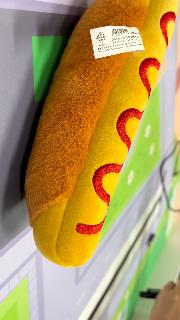hotdog: (24, 2, 178, 268)
